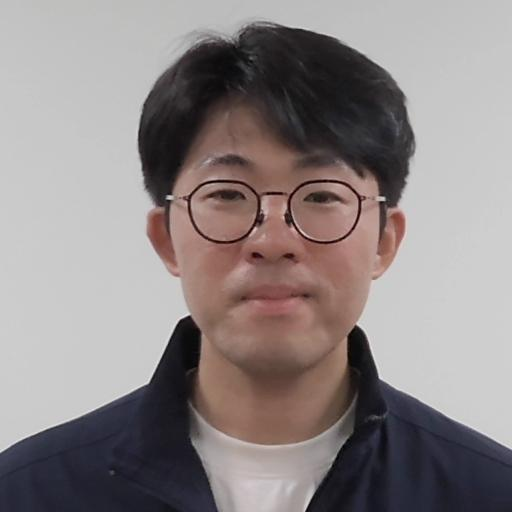no_glasses: (128, 11, 429, 373)
